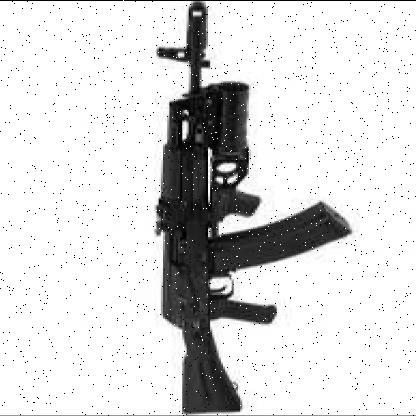rifle: (147, 0, 349, 415)
